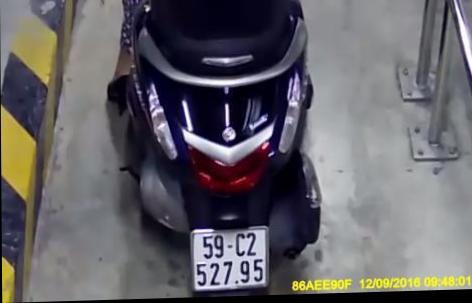License_Plate: (180, 221, 274, 297)
